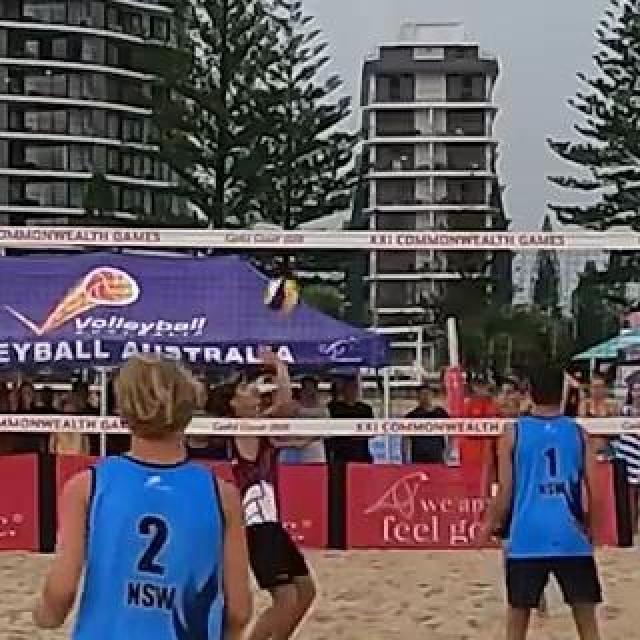volleyball: (265, 276, 299, 312)
